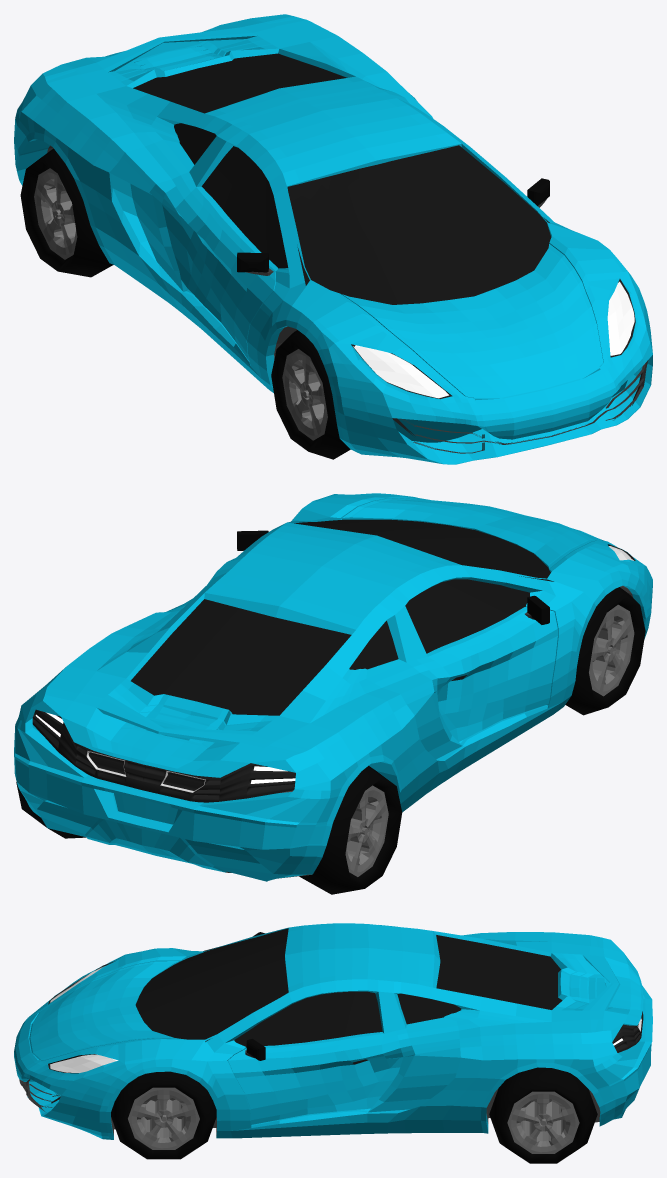
Rendered from blue_car.glb.
3 renders of one model, top to bottom at view 1: azimuth 30°, elevation 25°; view 2: azimuth 150°, elevation 25°; view 3: azimuth 270°, elevation 25°, orthographic. The views are drawn at different scales.
Visible parts, largest first — view 1: body, tyre back right, tyre front right; view 2: body, tyre back right, tyre front right; view 3: body, tyre back left, tyre front left.
Boxes of the visible parts, x1,y1,x2,y2 form: body: (14,14,652,464); tyre back right: (20,148,113,277); tyre front right: (271,330,350,459); body: (14,493,652,881); tyre back right: (299,765,402,894); tyre front right: (565,587,645,715); body: (14,923,652,1139); tyre back left: (489,1067,597,1163); tyre front left: (111,1071,216,1159).
Bounding box in the file's own units: 1.51 × 0.9426 × 3.34.
